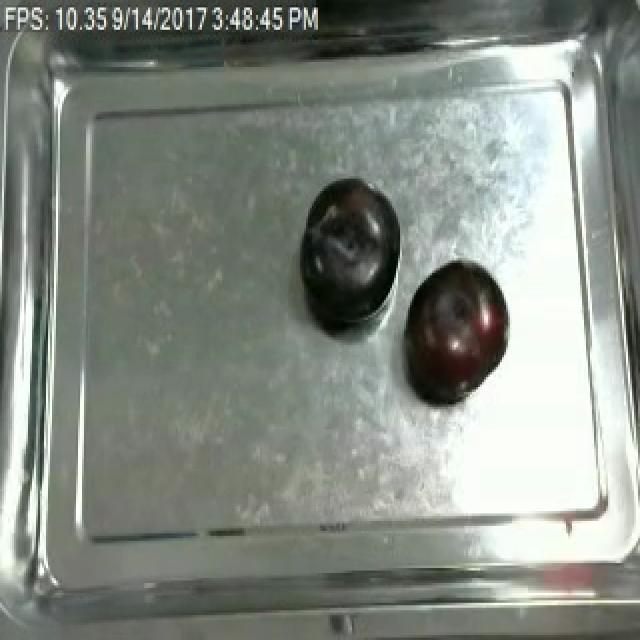Fruit: (292, 171, 408, 335), (396, 256, 514, 410)
